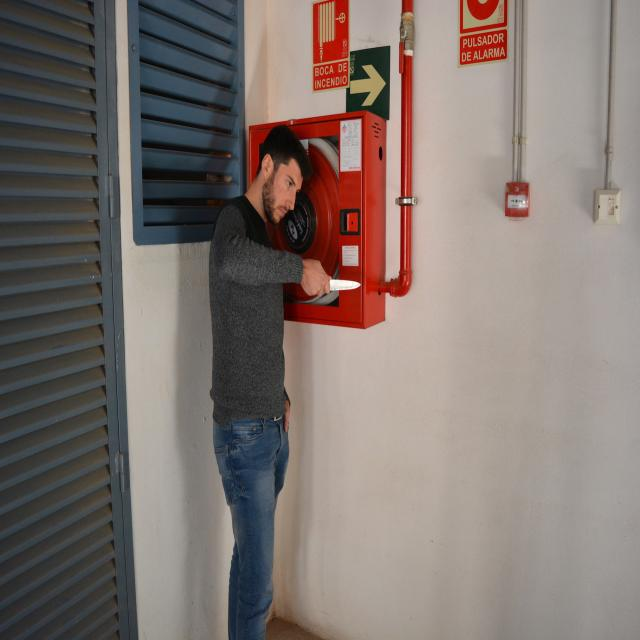knife: (330, 273, 368, 300)
